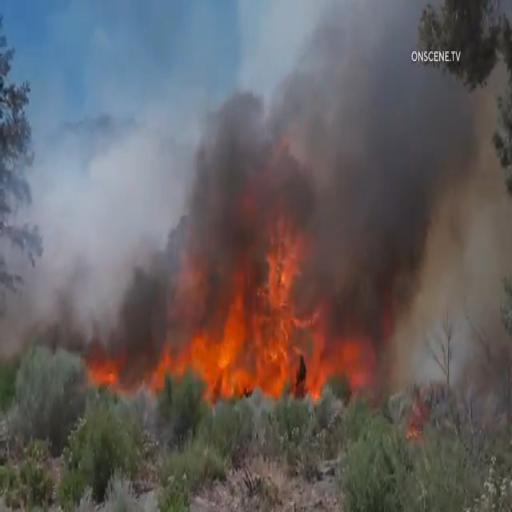fire: (183, 155, 397, 397), (70, 341, 162, 426)
smoke: (34, 130, 172, 326), (418, 91, 479, 351)
